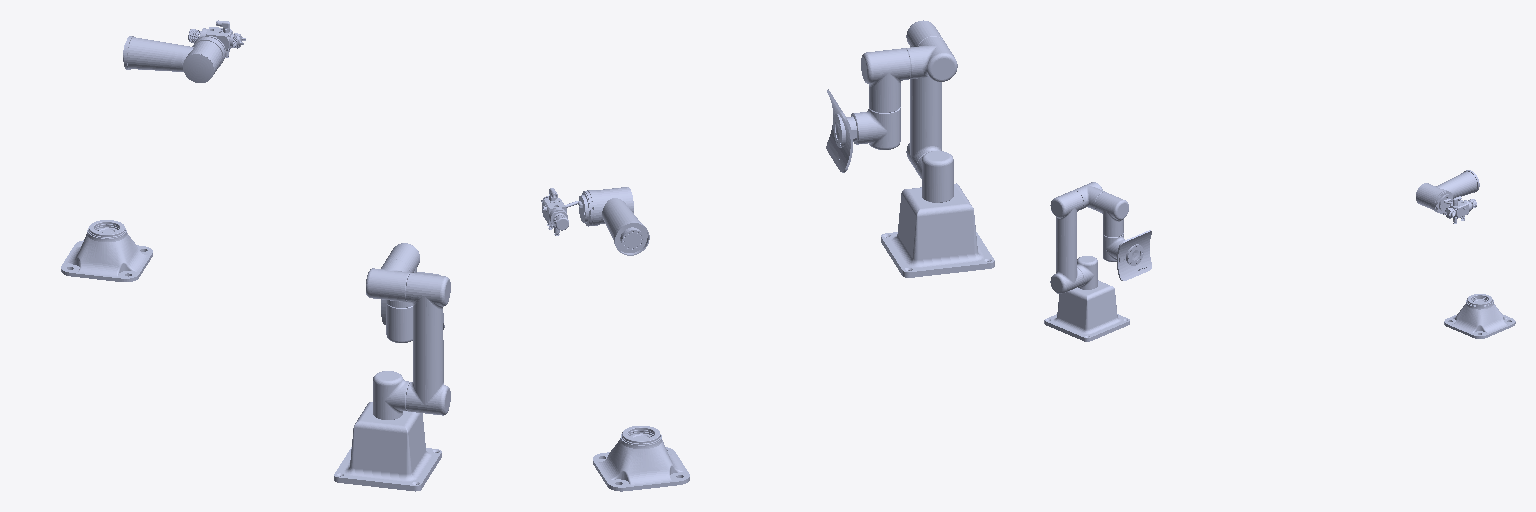
--- Facts derived from the render (not from the file) ---
The picture shows the robot from 3 angles, left to right: view 1: azimuth 30°, elevation 25°; view 2: azimuth 150°, elevation 25°; view 3: azimuth 270°, elevation 25°; orthographic projection.
Robot: urdf_painting_cell — 17 links, 16 joints (13 revolute, 3 fixed); root link a_foundation; default pose: every joint at zero.
Visible links, largest first — view 1: base_link_flo, link_2_flo, base_link_simon, link_5_simon, link_1_flo, link_3_flo, link_5_flo, link_6_simon, link_4_flo; view 2: base_link_flo, base_link_simon, link_2_flo, link_5_simon, link_4_flo, link_3_flo, link_1_flo, link_5_flo, link_6_flo, link_6_simon; view 3: base_link_flo, link_2_flo, base_link_simon, link_6_flo, link_5_simon, link_4_flo, link_6_simon, link_1_flo.
Link boxes in pixels (x1=…): base_link_flo: x1=334, y1=402, x2=441, y2=491; link_2_flo: x1=406, y1=273, x2=450, y2=415; base_link_simon: x1=61, y1=220, x2=152, y2=281; link_5_simon: x1=123, y1=36, x2=224, y2=82; link_1_flo: x1=373, y1=371, x2=409, y2=419; link_3_flo: x1=366, y1=259, x2=409, y2=301; link_5_flo: x1=386, y1=302, x2=412, y2=342; link_6_simon: x1=188, y1=20, x2=245, y2=57; link_4_flo: x1=385, y1=243, x2=419, y2=307; base_link_flo: x1=881, y1=183, x2=994, y2=277; base_link_simon: x1=593, y1=426, x2=689, y2=491; link_2_flo: x1=906, y1=20, x2=942, y2=171; link_5_simon: x1=587, y1=187, x2=649, y2=255; link_4_flo: x1=861, y1=48, x2=910, y2=112; link_3_flo: x1=906, y1=37, x2=957, y2=81; link_1_flo: x1=917, y1=151, x2=953, y2=202; link_5_flo: x1=851, y1=107, x2=900, y2=149; link_6_flo: x1=826, y1=89, x2=856, y2=172; link_6_simon: x1=541, y1=188, x2=592, y2=235; base_link_flo: x1=1044, y1=280, x2=1129, y2=341; link_2_flo: x1=1050, y1=190, x2=1083, y2=293; base_link_simon: x1=1444, y1=294, x2=1515, y2=338; link_6_flo: x1=1117, y1=230, x2=1151, y2=280; link_5_simon: x1=1416, y1=170, x2=1479, y2=212; link_4_flo: x1=1095, y1=192, x2=1128, y2=236; link_6_simon: x1=1435, y1=191, x2=1476, y2=223; link_1_flo: x1=1077, y1=256, x2=1097, y2=289.
Bounding box of the posed robot: 0.4897 × 1.68 × 0.6312 m (x, y, z).
10 mesh visuals loaded from 16 distinct referenced files (10 binary STL); not drawn: 6 (reference not matched to a file when rendering).

robot.urdf — urdf_painting_cell:
<?xml version="1.0" encoding="utf-8" ?>
<!-- This URDF was automatically created by SolidWorks to URDF Exporter! Originally created by Stephen Brawner ([email redacted]) 
     Commit Version: 1.6.0-4-g7f85cfe  Build Version: 1.6.7995.38578
     For more information, please see http://wiki.ros.org/sw_urdf_exporter -->
<robot name="urdf_painting_cell">
    <!-- foundation link to enable inertial simulation with painting cell -->
    <link name="a_foundation" />
    <joint name="foundation" type="fixed">
        <origin xyz="0 0 0" rpy="0 0 1.5708" />
        <parent link="a_foundation" />
        <child link="painting_cell" />
    </joint>
    <!-- 
    <link name="world">
    </link>
    <joint name="fixed_link_to_world" type="fixed">
        <parent="world"/>
        <child="a_foundation"/>
    </joint>
    -->
    <link name="painting_cell">
        <inertial>
            <origin xyz="-0.09426 0.68069 0.074345" rpy="0 0 0" />
            <mass value="975.23" />
            <inertia ixx="78.759" ixy="-0.0036806" ixz="0.50295" iyy="150.76" iyz="0.0008935" izz="93.846" />
        </inertial>
        <visual>
            <origin xyz="0 0 0" rpy="0 0 0" />
            <geometry>
                <mesh filename="package://urdf_painting_cell/meshes/painting_cell.STL" />
            </geometry>
            <material name="">
                <color rgba="1 1 1 1" />
            </material>
        </visual>
        <collision>
            <origin xyz="0 0 0" rpy="0 0 0" />
            <geometry>
                <mesh filename="package://urdf_painting_cell/meshes/painting_cell.STL" />
            </geometry>
        </collision>
    </link>
    <!-- turn_table -->
    <link name="turn_table">
        <inertial>
            <origin xyz="-1.3988E-06 0.0055716 -9.2944E-07" rpy="0 0 0" />
            <mass value="112.96" />
            <inertia ixx="11.799" ixy="1.7838E-10" ixz="1.9748E-05" iyy="23.592" iyz="1.1853E-10" izz="11.799" />
        </inertial>
        <visual>
            <origin xyz="0 0 0" rpy="0 0 0" />
            <geometry>
                <mesh filename="package://urdf_painting_cell/meshes/turn_table.STL" />
            </geometry>
            <material name="">
                <color rgba="1 1 0.75294 1" />
            </material>
        </visual>
        <collision>
            <origin xyz="0 0 0" rpy="0 0 0" />
            <geometry>
                <mesh filename="package://urdf_painting_cell/meshes/turn_table.STL" />
            </geometry>
        </collision>
    </link>
    <joint name="joint_turn_table" type="revolute">
        <origin xyz="0 -0.01 0.97538" rpy="1.5708 0 0" />
        <parent link="painting_cell" />
        <child link="turn_table" />
        <axis xyz="0 1 0" />
        <limit lower="-3.1416" upper="3.1416" effort="0" velocity="3.1416" />
    </joint>
    <!-- robot_simon -->
    <link name="base_link_simon">
        <inertial>
            <origin xyz="-0.021958 0.35096 0.047669" rpy="0 0 0" />
            <mass value="8.5514" />
            <inertia ixx="0.5338" ixy="-0.0037779" ixz="-0.020192" iyy="0.098331" iyz="-0.093769" izz="0.50259" />
        </inertial>
        <visual>
            <origin xyz="0 0 0" rpy="0 0 0" />
            <geometry>
                <mesh filename="package://urdf_painting_cell/meshes/base_link_simon.STL" />
            </geometry>
            <material name="">
                <color rgba="0.79216 0.81961 0.93333 1" />
            </material>
        </visual>
        <collision>
            <origin xyz="0 0 0" rpy="0 0 0" />
            <geometry>
                <mesh filename="package://urdf_painting_cell/meshes/base_link_simon.STL" />
            </geometry>
        </collision>
    </link>
    <joint name="joint_0_simon" type="fixed">
        <origin xyz="0.7 0.49 0.85038" rpy="0 0 3.9270" />
        <parent link="painting_cell" />
        <child link="base_link_simon" />
        <axis xyz="0 0 0" />
        <limit lower="0" upper="0" effort="0" velocity="0" />
    </joint>
    <link name="link_1_simon">
        <inertial>
            <origin xyz="0.021958 0.047669 0.26796" rpy="0 0 0" />
            <mass value="8.5514" />
            <inertia ixx="0.5338" ixy="0.020192" ixz="0.0037779" iyy="0.50259" iyz="-0.093769" izz="0.098331" />
        </inertial>
        <visual>
            <origin xyz="0 0 0" rpy="0 0 3.1416" />
            <geometry>
                <mesh filename="package://urdf_painting_cell/meshes/link_1_simon.STL" />
            </geometry>
            <material name="">
                <color rgba="0.79216 0.81961 0.93333 1" />
            </material>
        </visual>
        <collision>
            <origin xyz="0 0 0" rpy="0 0 0" />
            <geometry>
                <mesh filename="package://urdf_painting_cell/meshes/link_1_simon.STL" />
            </geometry>
        </collision>
    </link>
    <joint name="joint_1_simon" type="revolute">
        <origin xyz="0 0 0.083" rpy="0 0 1.5708" />
        <parent link="base_link_simon" />
        <child link="link_1_simon" />
        <axis xyz="0 0 1" />
        <limit lower="-3.1416" upper="3.1416" effort="0" velocity="0" />
    </joint>
    <link name="link_2_simon">
        <inertial>
            <origin xyz="0.11796 -0.047669 -0.026042" rpy="0 0 0" />
            <mass value="8.5514" />
            <inertia ixx="0.098331" ixy="0.093769" ixz="0.0037779" iyy="0.50259" iyz="-0.020192" izz="0.5338" />
        </inertial>
        <visual>
            <origin xyz="0 0 0" rpy="0 0 0" />
            <geometry>
                <mesh filename="package://urdf_painting_cell/meshes/link_2_simon.STL" />
            </geometry>
            <material name="">
                <color rgba="0.79216 0.81961 0.93333 1" />
            </material>
        </visual>
        <collision>
            <origin xyz="0 0 0" rpy="0 0 0" />
            <geometry>
                <mesh filename="package://urdf_painting_cell/meshes/link_2_simon.STL" />
            </geometry>
        </collision>
    </link>
    <joint name="joint_2_simon" type="revolute">
        <origin xyz="-0.048 0 0.15" rpy="0 -1.5708 0" />
        <parent link="link_1_simon" />
        <child link="link_2_simon" />
        <axis xyz="0 0 1" />
        <limit lower="-3.1416" upper="3.1416" effort="0" velocity="0" />
    </joint>
    <link name="link_3_simon">
        <inertial>
            <origin xyz="0.096042 -0.047669 0.069965" rpy="0 0 0" />
            <mass value="8.5514" />
            <inertia ixx="0.5338" ixy="0.020192" ixz="-0.0037779" iyy="0.50259" iyz="0.093769" izz="0.098331" />
        </inertial>
        <visual>
            <origin xyz="0 0 0" rpy="0 0 0" />
            <geometry>
                <mesh filename="package://urdf_painting_cell/meshes/link_3_simon.STL" />
            </geometry>
            <material name="">
                <color rgba="0.79216 0.81961 0.93333 1" />
            </material>
        </visual>
        <collision>
            <origin xyz="0 0 0" rpy="0 0 0" />
            <geometry>
                <mesh filename="package://urdf_painting_cell/meshes/link_3_simon.STL" />
            </geometry>
        </collision>
    </link>
    <joint name="joint_3_simon" type="revolute">
        <origin xyz="0.048 0 0.07" rpy="0 1.5708 0" />
        <parent link="link_2_simon" />
        <child link="link_3_simon" />
        <axis xyz="0 0 1" />
        <limit lower="-3.1416" upper="3.1416" effort="0" velocity="0" />
    </joint>
    <link name="link_4_simon">
        <inertial>
            <origin xyz="0.047669 0.23004 0.050042" rpy="0 0 0" />
            <mass value="8.5514" />
            <inertia ixx="0.50259" ixy="0.093769" ixz="-0.020192" iyy="0.098331" iyz="0.0037779" izz="0.5338" />
        </inertial>
        <visual>
            <origin xyz="0 0 0" rpy="0 0 0" />
            <geometry>
                <mesh filename="package://urdf_painting_cell/meshes/link_4_simon.STL" />
            </geometry>
            <material name="">
                <color rgba="0.79216 0.81961 0.93333 1" />
            </material>
        </visual>
        <collision>
            <origin xyz="0 0 0" rpy="0 0 0" />
            <geometry>
                <mesh filename="package://urdf_painting_cell/meshes/link_4_simon.STL" />
            </geometry>
        </collision>
    </link>
    <joint name="joint_4_simon" type="revolute">
        <origin xyz="0.046 0 0.3" rpy="-1.5708 0 -1.5708" />
        <parent link="link_3_simon" />
        <child link="link_4_simon" />
        <axis xyz="0 0 1" />
        <limit lower="-3.1416" upper="3.1416" effort="0" velocity="0" />
    </joint>
    <link name="link_5_simon">
        <inertial>
            <origin xyz="-0.029958 -0.23004 0.0016686" rpy="0 0 0" />
            <mass value="8.5514" />
            <inertia ixx="0.5338" ixy="-0.0037779" ixz="-0.020192" iyy="0.098331" iyz="-0.093769" izz="0.50259" />
        </inertial>
        <visual>
            <origin xyz="0 0 0" rpy="0 0 0" />
            <geometry>
                <mesh filename="package://urdf_painting_cell/meshes/link_5_simon.STL" />
            </geometry>
            <material name="">
                <color rgba="0.79216 0.81961 0.93333 1" />
            </material>
        </visual>
        <collision>
            <origin xyz="0 0 0" rpy="0 0 0" />
            <geometry>
                <mesh filename="package://urdf_painting_cell/meshes/link_5_simon.STL" />
            </geometry>
        </collision>
    </link>
    <joint name="joint_5_simon" type="revolute">
        <origin xyz="0.046 0 0.08" rpy="3.1416 -1.5708 0" />
        <parent link="link_4_simon" />
        <child link="link_5_simon" />
        <axis xyz="0 0 1" />
        <limit lower="-3.1416" upper="3.1416" effort="0" velocity="0" />
    </joint>
    <link name="link_6_simon">
        <inertial>
            <origin xyz="-0.19833 -0.23004 0.075958" rpy="0 0 0" />
            <mass value="8.5514" />
            <inertia ixx="0.50259" ixy="-0.093769" ixz="0.020192" iyy="0.098331" iyz="0.0037779" izz="0.5338" />
        </inertial>
        <visual>
            <origin xyz="0 0 0" rpy="3.1416 0 0" />
            <geometry>
                <mesh filename="package://urdf_painting_cell/meshes/link_6_simon.STL" />
            </geometry>
            <material name="">
                <color rgba="0.79216 0.81961 0.93333 1" />
            </material>
        </visual>
        <collision>
            <origin xyz="0 0 0" rpy="0 0 0" />
            <geometry>
                <mesh filename="package://urdf_painting_cell/meshes/link_6_simon.STL" />
            </geometry>
        </collision>
    </link>
    <joint name="joint_6_simon" type="revolute">
        <origin xyz="0.046 0 0.2" rpy="3.1416 -1.5708 0" />
        <parent link="link_5_simon" />
        <child link="link_6_simon" />
        <axis xyz="0 0 1" />
        <limit lower="-3.1416" upper="3.1416" effort="0" velocity="0" />
    </joint>
    <!-- robot_florian -->
    <link name="base_link_flo">
        <inertial>
            <origin xyz="-6.2303E-07 1.2798E-06 0.072226" rpy="0 0 0" />
            <mass value="1.859" />
            <inertia ixx="0.011059" ixy="-1.2298E-07" ixz="-1.0999E-07" iyy="0.011058" iyz="1.8675E-07" izz="0.01313" />
        </inertial>
        <visual>
            <origin xyz="0 0 0" rpy="0 0 0" />
            <geometry>
                <mesh filename="package://urdf_painting_cell/meshes/base_link_flo.STL" />
            </geometry>
            <material name="">
                <color rgba="0.79216 0.81961 0.93333 1" />
            </material>
        </visual>
        <collision>
            <origin xyz="0 0 0" rpy="0 0 0" />
            <geometry>
                <mesh filename="package://urdf_painting_cell/meshes/base_link_flo.STL" />
            </geometry>
        </collision>
    </link>
    <joint name="joint_0_flo" type="fixed">
        <origin xyz="-0.7 0.49 0.85038" rpy="0 0 -0.7854" />
        <parent link="painting_cell" />
        <child link="base_link_flo" />
        <axis xyz="0 0 0" />
    </joint>
    <link name="link_1_flo">
        <inertial>
            <origin xyz="1.4271E-08 -0.057735 -0.017263" rpy="0 0 0" />
            <mass value="0.32309" />
            <inertia ixx="0.00049732" ixy="6.7918E-11" ixz="-9.2494E-11" iyy="0.00037976" iyz="-4.0695E-05" izz="0.0004415" />
        </inertial>
        <visual>
            <origin xyz="0 0 0" rpy="0 0 0" />
            <geometry>
                <mesh filename="package://urdf_painting_cell/meshes/link_1_flo.STL" />
            </geometry>
            <material name="">
                <color rgba="0.79216 0.81961 0.93333 1" />
            </material>
        </visual>
        <collision>
            <origin xyz="0 0 0" rpy="0 0 0" />
            <geometry>
                <mesh filename="package://urdf_painting_cell/meshes/link_1_flo.STL" />
            </geometry>
        </collision>
    </link>
    <joint name="joint_1_flo" type="revolute">
        <origin xyz="0 0 0.15" rpy="-1.9468 0 3.1416" />
        <parent link="base_link_flo" />
        <child link="link_1_flo" />
        <axis xyz="0 0.93012 0.36725" />
        <limit lower="-3.1416" upper="3.1416" effort="0" velocity="0" />
    </joint>
    <link name="link_2_flo">
        <inertial>
            <origin xyz="1.0793E-08 0.052069 -0.14998" rpy="0 0 0" />
            <mass value="1.576" />
            <inertia ixx="0.017927" ixy="1.3734E-09" ixz="1.19E-09" iyy="0.017703" iyz="1.5043E-06" izz="0.0014816" />
        </inertial>
        <visual>
            <origin xyz="0 0 0" rpy="0 0 0" />
            <geometry>
                <mesh filename="package://urdf_painting_cell/meshes/link_2_flo.STL" />
            </geometry>
            <material name="">
                <color rgba="0.79216 0.81961 0.93333 1" />
            </material>
        </visual>
        <collision>
            <origin xyz="0 0 0" rpy="0 0 0" />
            <geometry>
                <mesh filename="package://urdf_painting_cell/meshes/link_2_flo.STL" />
            </geometry>
        </collision>
    </link>
    <joint name="joint_2_flo" type="revolute">
        <origin xyz="0 -0.07103 0.030818" rpy="1.1947 0 3.1416" />
        <parent link="link_1_flo" />
        <child link="link_2_flo" />
        <axis xyz="0 1 0" />
        <limit lower="-3.1416" upper="3.1416" effort="0" velocity="0" />
    </joint>
    <link name="link_3_flo">
        <inertial>
            <origin xyz="5.2044E-09 -0.058895 0.014691" rpy="0 0 0" />
            <mass value="0.41135" />
            <inertia ixx="0.00069097" ixy="6.2254E-11" ixz="2.363E-13" iyy="0.00055184" iyz="-2.4759E-05" izz="0.00052635" />
        </inertial>
        <visual>
            <origin xyz="0 0 0" rpy="0 0 0" />
            <geometry>
                <mesh filename="package://urdf_painting_cell/meshes/link_3_flo.STL" />
            </geometry>
            <material name="">
                <color rgba="0.79216 0.81961 0.93333 1" />
            </material>
        </visual>
        <collision>
            <origin xyz="0 0 0" rpy="0 0 0" />
            <geometry>
                <mesh filename="package://urdf_painting_cell/meshes/link_3_flo.STL" />
            </geometry>
        </collision>
    </link>
    <joint name="joint_3_flo" type="revolute">
        <origin xyz="0 0 -0.3" rpy="0 1.5708 0" />
        <parent link="link_2_flo" />
        <child link="link_3_flo" />
        <axis xyz="0 1 0" />
        <limit lower="-3.1416" upper="3.1416" effort="0" velocity="0" />
    </joint>
    <link name="link_4_flo">
        <inertial>
            <origin xyz="1.1592E-06 -0.057903 0.029233" rpy="0 0 0" />
            <mass value="0.54355" />
            <inertia ixx="0.0011348" ixy="6.5647E-11" ixz="5.5232E-11" iyy="0.00099434" iyz="-4.9821E-05" izz="0.00062037" />
        </inertial>
        <visual>
            <origin xyz="0 0 0" rpy="0 0 0" />
            <geometry>
                <mesh filename="package://urdf_painting_cell/meshes/link_4_flo.STL" />
            </geometry>
            <material name="">
                <color rgba="0.79216 0.81961 0.93333 1" />
            </material>
        </visual>
        <collision>
            <origin xyz="0 0 0" rpy="0 0 0" />
            <geometry>
                <mesh filename="package://urdf_painting_cell/meshes/link_4_flo.STL" />
            </geometry>
        </collision>
    </link>
    <joint name="joint_4_flo" type="revolute">
        <origin xyz="0 -0.05475 0.075" rpy="-1.5708 0 1.5708" />
        <parent link="link_3_flo" />
        <child link="link_4_flo" />
        <axis xyz="0 1 0" />
        <limit lower="-3.1416" upper="3.1416" effort="0" velocity="0" />
    </joint>
    <link name="link_5_flo">
        <inertial>
            <origin xyz="-1.2442E-06 -0.054708 0.01555" rpy="0 0 0" />
            <mass value="0.38783" />
            <inertia ixx="0.00063618" ixy="6.286E-11" ixz="2.3496E-11" iyy="0.00052928" iyz="-3.1119E-05" izz="0.00047736" />
        </inertial>
        <visual>
            <origin xyz="0 0 0" rpy="0 0 0" />
            <geometry>
                <mesh filename="package://urdf_painting_cell/meshes/link_5_flo.STL" />
            </geometry>
            <material name="">
                <color rgba="0.79216 0.81961 0.93333 1" />
            </material>
        </visual>
        <collision>
            <origin xyz="0 0 0" rpy="0 0 0" />
            <geometry>
                <mesh filename="package://urdf_painting_cell/meshes/link_5_flo.STL" />
            </geometry>
        </collision>
    </link>
    <joint name="joint_5_flo" type="revolute">
        <origin xyz="0 -0.054749 0.105" rpy="-1.5708 0 -3.1416" />
        <parent link="link_4_flo" />
        <child link="link_5_flo" />
        <axis xyz="0 1 0" />
        <limit lower="-3.1416" upper="3.1416" effort="0" velocity="0" />
    </joint>
    <link name="link_6_flo">
        <inertial>
            <origin xyz="1.5167E-05 4.219E-05 0.028173" rpy="0 0 0" />
            <mass value="0.2641" />
            <inertia ixx="0.00038852" ixy="-3.0807E-07" ixz="5.6453E-08" iyy="0.00039016" iyz="-1.4393E-07" izz="0.00071229" />
        </inertial>
        <visual>
            <origin xyz="0 0 0" rpy="0 0 0" />
            <geometry>
                <mesh filename="package://urdf_painting_cell/meshes/link_6_flo.STL" />
            </geometry>
            <material name="">
                <color rgba="0.79216 0.81961 0.93333 1" />
            </material>
        </visual>
        <collision>
            <origin xyz="0 0 0" rpy="0 0 0" />
            <geometry>
                <mesh filename="package://urdf_painting_cell/meshes/link_6_flo.STL" />
            </geometry>
        </collision>
    </link>
    <joint name="joint_6_flo" type="revolute">
        <origin xyz="0 -0.049499 0.075" rpy="0 0 0" />
        <parent link="link_5_flo" />
        <child link="link_6_flo" />
        <axis xyz="0 0 1" />
        <limit lower="-3.1416" upper="3.1416" effort="0" velocity="0" />
    </joint>
    <transmission name="joint_1_simon_trans">
        <type>transmission_interface/SimpleTransmission</type>
        <joint name="joint_1_simon">
            <hardwareInterface>EffortJointInterface</hardwareInterface>
        </joint>
        <actuator name="joint1_simon_motor">
            <mechanicalReduction>1</mechanicalReduction>
            <hardwareInterface>hardware_interface/PositionJointInterface</hardwareInterface>
        </actuator>
    </transmission>
    <transmission name="joint_2_simon_trans">
        <type>transmission_interface/SimpleTransmission</type>
        <joint name="joint_2_simon">
            <hardwareInterface>EffortJointInterface</hardwareInterface>
        </joint>
        <actuator name="joint2_simon_motor">
            <mechanicalReduction>1</mechanicalReduction>
            <hardwareInterface>hardware_interface/PositionJointInterface</hardwareInterface>
        </actuator>
    </transmission>
    <transmission name="joint_3_simon_trans">
        <type>transmission_interface/SimpleTransmission</type>
        <joint name="joint_3_simon">
            <hardwareInterface>EffortJointInterface</hardwareInterface>
        </joint>
        <actuator name="joint3_simon_motor">
            <mechanicalReduction>1</mechanicalReduction>
            <hardwareInterface>hardware_interface/PositionJointInterface</hardwareInterface>
        </actuator>
    </transmission>
    <transmission name="joint_4_simon_trans">
        <type>transmission_interface/SimpleTransmission</type>
        <joint name="joint_4_simon">
            <hardwareInterface>EffortJointInterface</hardwareInterface>
        </joint>
        <actuator name="joint4_simon_motor">
            <mechanicalReduction>1</mechanicalReduction>
            <hardwareInterface>hardware_interface/PositionJointInterface</hardwareInterface>
        </actuator>
    </transmission>
    <transmission name="joint_5_simon_trans">
        <type>transmission_interface/SimpleTransmission</type>
        <joint name="joint_5_simon">
            <hardwareInterface>EffortJointInterface</hardwareInterface>
        </joint>
        <actuator name="joint5_simon_motor">
            <mechanicalReduction>1</mechanicalReduction>
            <hardwareInterface>hardware_interface/PositionJointInterface</hardwareInterface>
        </actuator>
    </transmission>
    <transmission name="joint_6_simon_trans">
        <type>transmission_interface/SimpleTransmission</type>
        <joint name="joint_6_simon">
            <hardwareInterface>EffortJointInterface</hardwareInterface>
        </joint>
        <actuator name="joint6_simon_motor">
            <mechanicalReduction>1</mechanicalReduction>
            <hardwareInterface>hardware_interface/PositionJointInterface</hardwareInterface>
        </actuator>
    </transmission>
    <transmission name="joint_1_flo_trans">
        <type>transmission_interface/SimpleTransmission</type>
        <joint name="joint_1_flo">
            <hardwareInterface>EffortJointInterface</hardwareInterface>
        </joint>
        <actuator name="joint1_flo_motor">
            <mechanicalReduction>1</mechanicalReduction>
            <hardwareInterface>hardware_interface/PositionJointInterface</hardwareInterface>
        </actuator>
    </transmission>
    <transmission name="joint_2_flo_trans">
        <type>transmission_interface/SimpleTransmission</type>
        <joint name="joint_2_flo">
            <hardwareInterface>EffortJointInterface</hardwareInterface>
        </joint>
        <actuator name="joint2_flo_motor">
            <mechanicalReduction>1</mechanicalReduction>
            <hardwareInterface>hardware_interface/PositionJointInterface</hardwareInterface>
        </actuator>
    </transmission>
    <transmission name="joint_3_flo_trans">
        <type>transmission_interface/SimpleTransmission</type>
        <joint name="joint_3_flo">
            <hardwareInterface>EffortJointInterface</hardwareInterface>
        </joint>
        <actuator name="joint3_flo_motor">
            <mechanicalReduction>1</mechanicalReduction>
            <hardwareInterface>hardware_interface/PositionJointInterface</hardwareInterface>
        </actuator>
    </transmission>
    <transmission name="joint_4_flo_trans">
        <type>transmission_interface/SimpleTransmission</type>
        <joint name="joint_4_flo">
            <hardwareInterface>EffortJointInterface</hardwareInterface>
        </joint>
        <actuator name="joint4_flo_motor">
            <mechanicalReduction>1</mechanicalReduction>
            <hardwareInterface>hardware_interface/PositionJointInterface</hardwareInterface>
        </actuator>
    </transmission>
    <transmission name="joint_5_flo_trans">
        <type>transmission_interface/SimpleTransmission</type>
        <joint name="joint_5_flo">
            <hardwareInterface>EffortJointInterface</hardwareInterface>
        </joint>
        <actuator name="joint5_flo_motor">
            <mechanicalReduction>1</mechanicalReduction>
            <hardwareInterface>hardware_interface/PositionJointInterface</hardwareInterface>
        </actuator>
    </transmission>
    <transmission name="joint_6_flo_trans">
        <type>transmission_interface/SimpleTransmission</type>
        <joint name="joint_6_flo">
            <hardwareInterface>EffortJointInterface</hardwareInterface>
        </joint>
        <actuator name="joint6_flo_motor">
            <mechanicalReduction>1</mechanicalReduction>
            <hardwareInterface>hardware_interface/PositionJointInterface</hardwareInterface>
        </actuator>
    </transmission>
    <transmission name="trans_joint_turn_table">
        <type>transmission_interface/SimpleTransmission</type>
        <joint name="joint_turn_table">
            <hardwareInterface>hardware_interface/PositionJointInterface</hardwareInterface>
        </joint>
        <actuator name="joint_turn_table_motor">
            <hardwareInterface>hardware_interface/PositionJointInterface</hardwareInterface>
            <mechanicalReduction>1</mechanicalReduction>
        </actuator>
    </transmission>
    <!-- Gazebo Plugins -->
    <gazebo>
        <plugin name="control" filename="libgazebo_ros_control.so">
        </plugin>
    </gazebo>
    <gazebo>
        <plugin name="joint_state_publisher" filename="libgazebo_ros_joint_state_publisher.so">
            <jointName>joint_turn_table, joint_0_flo, joint_1_flo, joint_2_flo, joint_3_flo, joint_4_flo, joint_5_floj, joint_6_flo, joint_6_flo, joint_0_simon, joint_1_simon, joint_2_simon, joint_3_simon, joint_4_simon, joint_5_simon, joint_6_simon</jointName>
        </plugin>
    </gazebo>
</robot>
